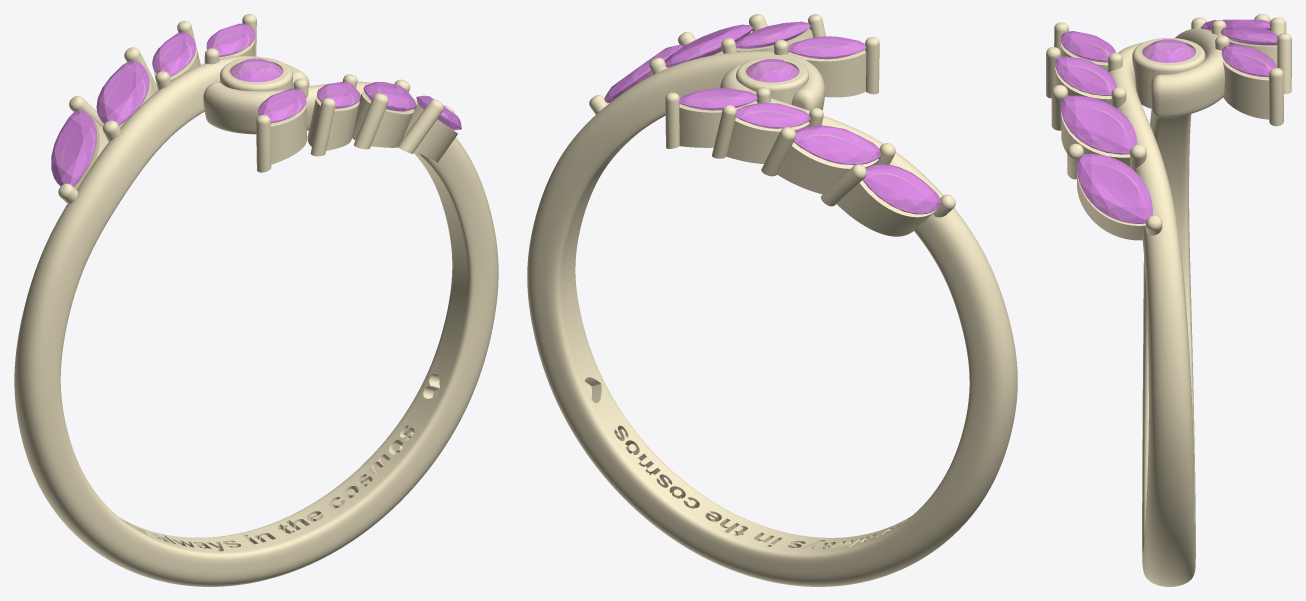
File: anillo_rosa_grabado.glb
The picture shows the model from 3 angles, left to right: view 1: azimuth 30°, elevation 25°; view 2: azimuth 150°, elevation 25°; view 3: azimuth 270°, elevation 25°; orthographic projection.
Parts seen in each view (by area): view 1: Object_1_WhiteMetal_0, Diamond_Marquise_2, Diamond_Marquise_4, Diamond_Marquise_6, Diamond_Marquise_7, Diamond_Marquise_8, Diamond_Round, Diamond_Marquise_3, Diamond_Marquise_5; view 2: Object_1_WhiteMetal_0, Diamond_Marquise_2, Diamond_Marquise_4, Diamond_Marquise_6, Diamond_Marquise_3, Diamond_Marquise_7, Diamond_Marquise_8, Diamond_Marquise_5, Diamond_Round, Diamond_Marquise; view 3: Object_1_WhiteMetal_0, Diamond_Marquise, Diamond_Marquise_3, Diamond_Marquise_5, Diamond_Marquise_8, Diamond_Marquise_7, Diamond_Round, Diamond_Marquise_6, Diamond_Marquise_4.
Boxes of the visible parts, box(x1,y1,x2,y2) form: Object_1_WhiteMetal_0: box(14, 14, 498, 586); Diamond_Marquise_2: box(51, 110, 96, 186); Diamond_Marquise_4: box(96, 60, 149, 125); Diamond_Marquise_6: box(152, 32, 196, 76); Diamond_Marquise_7: box(258, 88, 306, 123); Diamond_Marquise_8: box(206, 23, 254, 56); Diamond_Round: box(230, 58, 282, 82); Diamond_Marquise_3: box(363, 82, 416, 111); Diamond_Marquise_5: box(317, 81, 360, 108); Object_1_WhiteMetal_0: box(527, 14, 1017, 586); Diamond_Marquise_2: box(862, 164, 940, 214); Diamond_Marquise_4: box(793, 125, 880, 165); Diamond_Marquise_6: box(736, 103, 810, 128); Diamond_Marquise_3: box(665, 24, 753, 67); Diamond_Marquise_7: box(788, 36, 866, 59); Diamond_Marquise_8: box(679, 88, 757, 110); Diamond_Marquise_5: box(735, 21, 810, 48); Diamond_Round: box(746, 58, 798, 82); Diamond_Marquise: box(604, 44, 683, 103); Object_1_WhiteMetal_0: box(1046, 14, 1291, 586); Diamond_Marquise: box(1077, 153, 1152, 223); Diamond_Marquise_3: box(1061, 95, 1137, 154); Diamond_Marquise_5: box(1055, 56, 1116, 95); Diamond_Marquise_8: box(1221, 44, 1276, 77); Diamond_Marquise_7: box(1060, 31, 1115, 62); Diamond_Round: box(1142, 39, 1195, 62); Diamond_Marquise_6: box(1220, 25, 1278, 45); Diamond_Marquise_4: box(1200, 19, 1269, 31).
Bounding box in the file's own units: 0.0228 × 0.0235 × 0.01.
